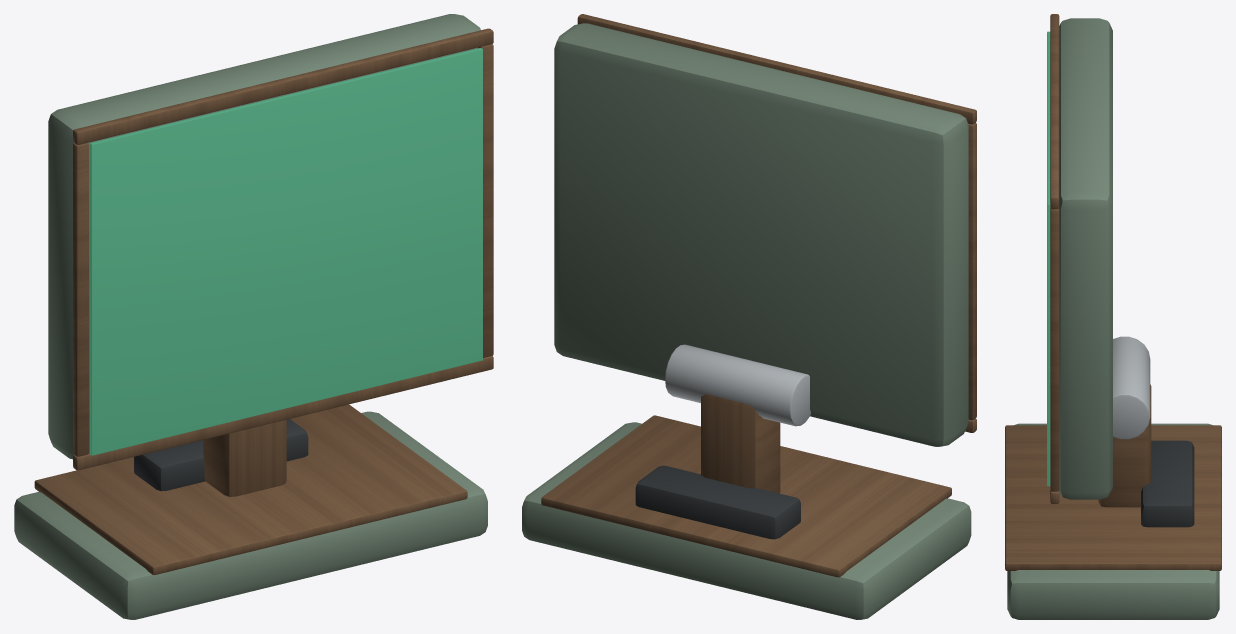
File: pos_terminal_high_end.glb
3 views of the same model, side by side, from view 1: azimuth 30°, elevation 25°; view 2: azimuth 150°, elevation 25°; view 3: azimuth 270°, elevation 25° (orthographic). The views are drawn at different scales.
Parts seen in each view (by area): view 1: POS_Screen, POS_BaseTrim, POS_Base, POS_Back, POS_TrimTop, POS_Stem, POS_TrimBottom, POS_TrimSide_-1, POS_CableDock, POS_TrimSide_1; view 2: POS_Back, POS_BaseTrim, POS_Base, POS_CableDock, POS_HingeKnuckle, POS_Stem, POS_TrimTop, POS_TrimSide_-1; view 3: POS_Back, POS_BaseTrim, POS_Base, POS_CableDock, POS_HingeKnuckle, POS_Stem, POS_TrimSide_1, POS_TrimTop, POS_Screen.
Part boxes in pixels (x1,y1,x2,y2): POS_Screen: [90, 48, 482, 455]; POS_BaseTrim: [34, 404, 467, 575]; POS_Base: [14, 411, 487, 619]; POS_Back: [48, 14, 480, 459]; POS_TrimTop: [73, 28, 493, 144]; POS_Stem: [203, 419, 286, 496]; POS_TrimBottom: [73, 356, 493, 470]; POS_TrimSide_-1: [73, 142, 88, 456]; POS_CableDock: [134, 419, 308, 491]; POS_TrimSide_1: [478, 44, 493, 357]; POS_Back: [554, 23, 968, 446]; POS_BaseTrim: [541, 415, 951, 577]; POS_Base: [522, 422, 971, 619]; POS_CableDock: [635, 465, 800, 539]; POS_HingeKnuckle: [665, 344, 810, 426]; POS_Stem: [701, 394, 780, 493]; POS_TrimTop: [577, 14, 976, 124]; POS_TrimSide_-1: [968, 123, 976, 420]; POS_Back: [1059, 18, 1112, 499]; POS_BaseTrim: [1005, 425, 1221, 570]; POS_Base: [1007, 423, 1219, 619]; POS_CableDock: [1141, 440, 1194, 527]; POS_HingeKnuckle: [1113, 336, 1150, 439]; POS_Stem: [1098, 384, 1151, 507]; POS_TrimSide_1: [1050, 208, 1059, 491]; POS_TrimTop: [1050, 14, 1059, 209]; POS_Screen: [1047, 31, 1050, 486].
Size of what is drawn, in the model's own units: 0.3854 by 0.4262 by 0.1912.
Materials: 5 (1 with a texture image).
